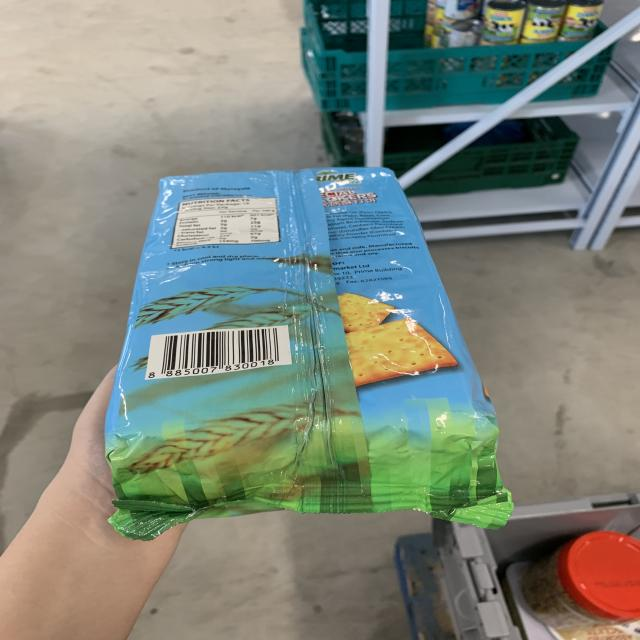object_name: (112, 174, 506, 520)
